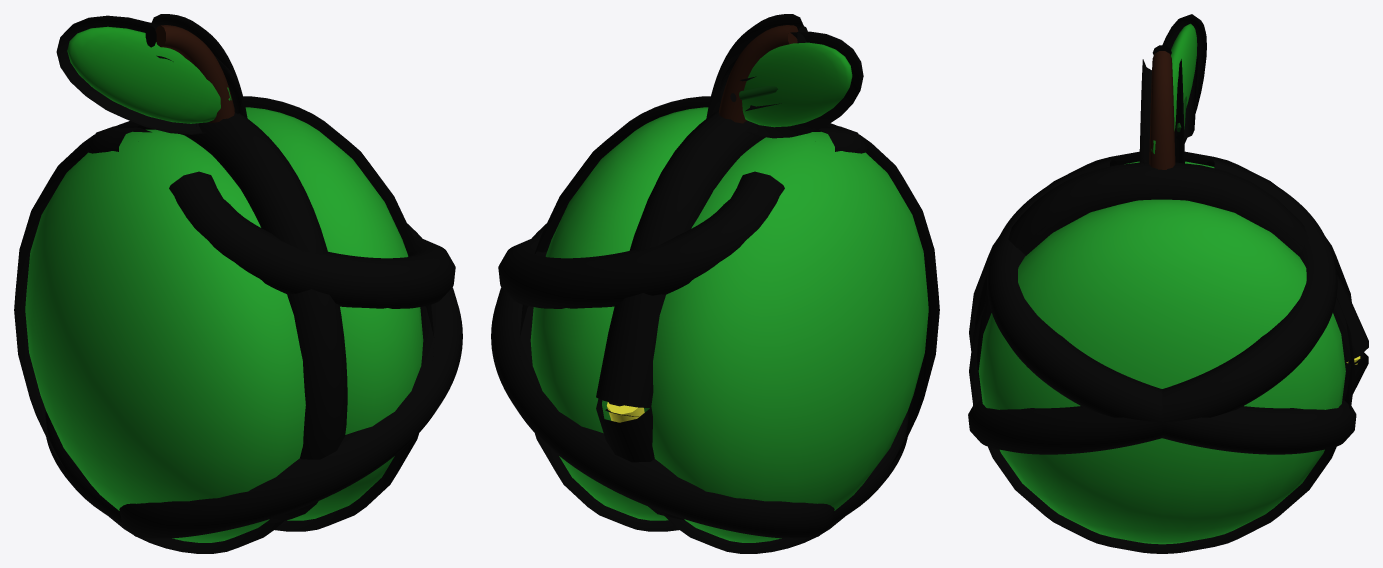
Rendered from Fruit_Split.glb.
The picture shows the model from 3 angles, left to right: view 1: azimuth 30°, elevation 25°; view 2: azimuth 150°, elevation 25°; view 3: azimuth 270°, elevation 25°; orthographic projection. The views are drawn at different scales.
Visible parts, largest first — view 1: Fruit_Split.001; view 2: Fruit_Split.001; view 3: Fruit_Split.001.
Boxes of the visible parts, x1=… form: Fruit_Split.001: x1=14, y1=14, x2=462, y2=553; Fruit_Split.001: x1=491, y1=14, x2=939, y2=553; Fruit_Split.001: x1=968, y1=14, x2=1368, y2=553.
Size of the model in its own units: 1.86 by 2.5 by 1.97.
1 material, 1 textured.
